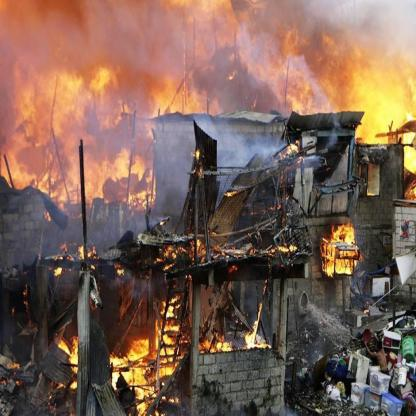fire: (170, 8, 408, 165), (40, 216, 198, 409), (5, 52, 168, 209), (198, 151, 296, 359), (297, 211, 365, 288)
